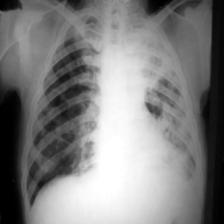tuberculosis: (11, 9, 208, 222)
